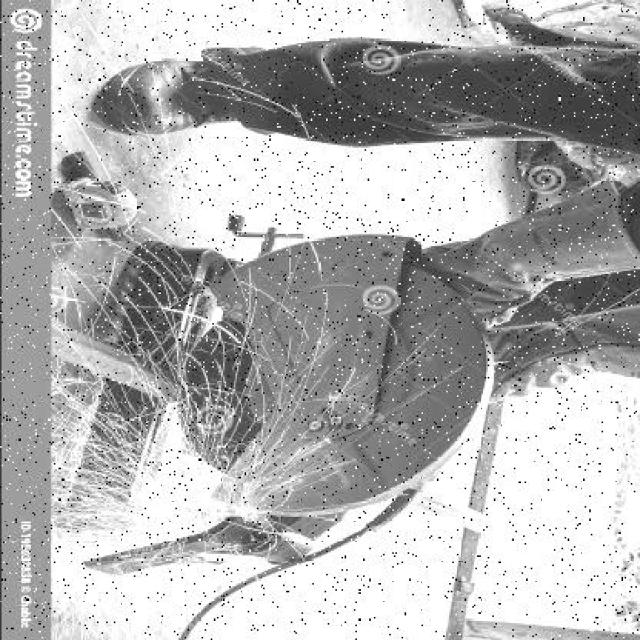shoes: (100, 54, 238, 138)
